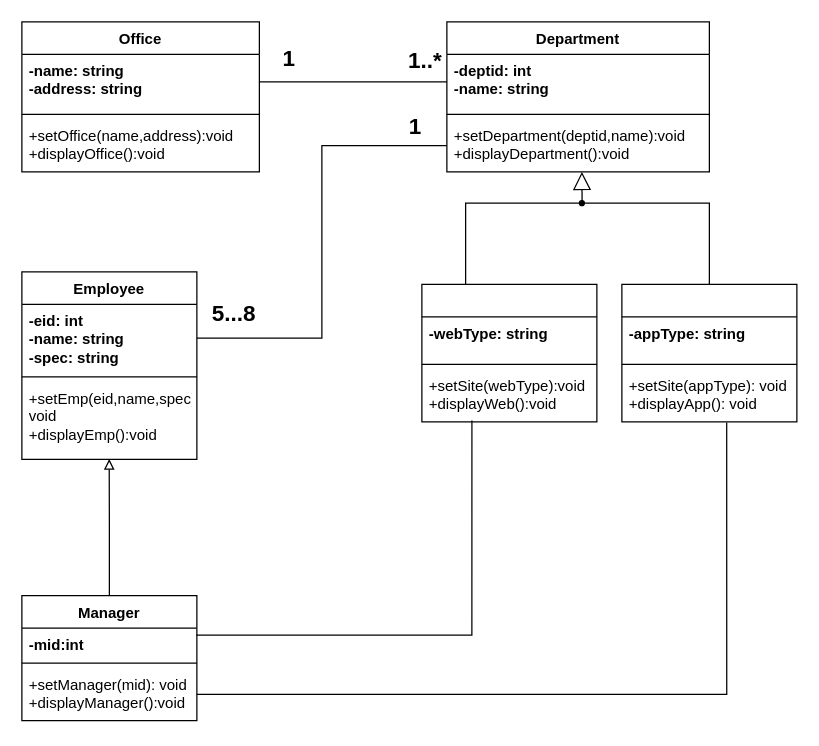
This 819x746 diagram has some shape labels left out. The box of each missing label's shape, as (x1, y1, x2, y2) in pixels:
Mobile: (621, 283, 797, 422)
Web Development: (421, 283, 597, 422)
